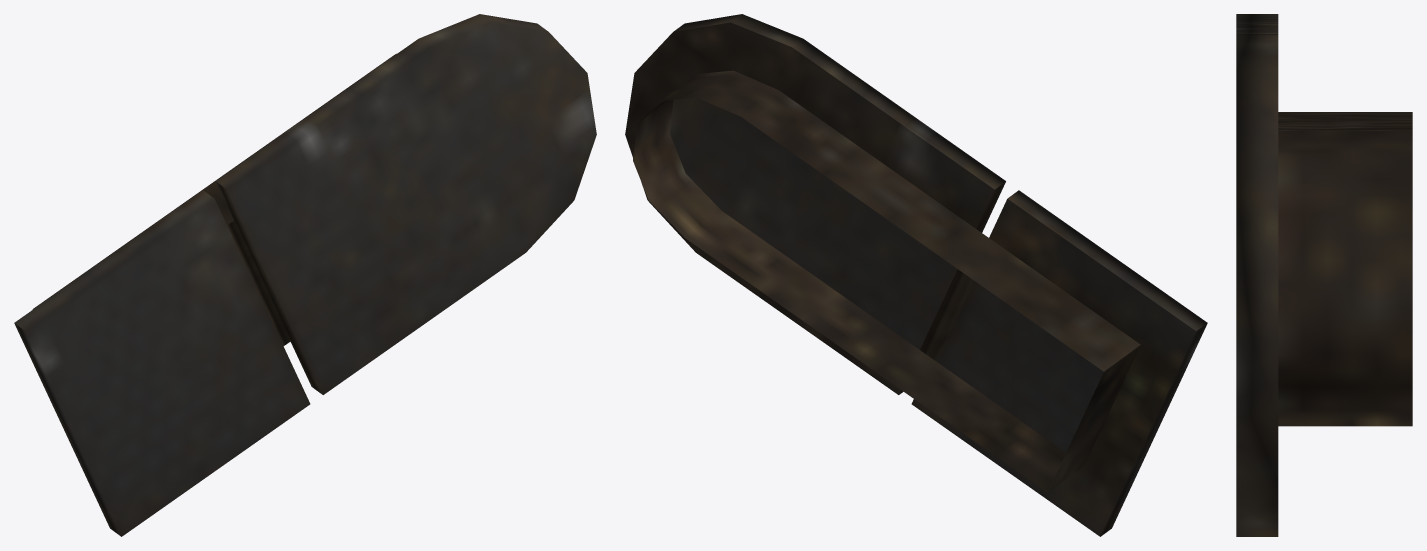
The model's file is Box_Cutter_Lock_low.obj.
3 renders of one model, left to right at view 1: azimuth 30°, elevation 25°; view 2: azimuth 150°, elevation 25°; view 3: azimuth 270°, elevation 25°, orthographic. The views are drawn at different scales.
Size of the model in its own units: 0.0283 by 0.0201 by 0.00416.
Materials: 1 (1 with a texture image).
